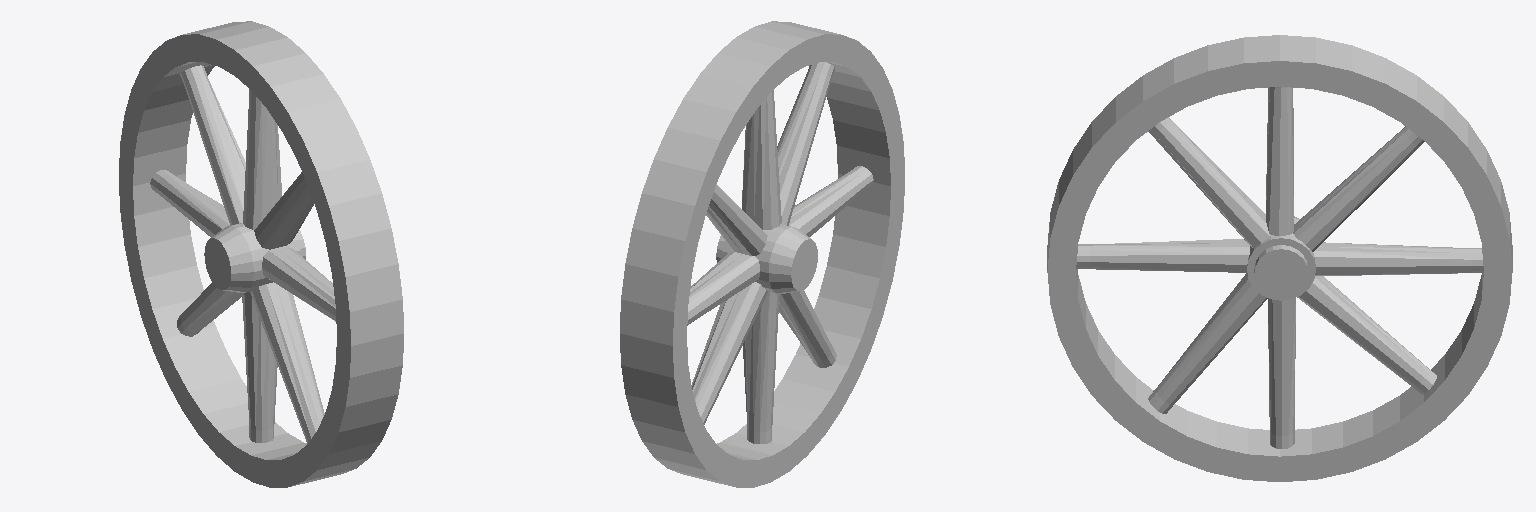
File: hpWheel.obj
3 views of the same model, side by side, from view 1: azimuth 30°, elevation 25°; view 2: azimuth 150°, elevation 25°; view 3: azimuth 270°, elevation 25° (orthographic).
Parts seen in each view (by area): view 1: default; view 2: default; view 3: default.
Boxes of the visible parts, <box> form: default: <box>119,21,403,487</box>; default: <box>620,21,904,487</box>; default: <box>1047,35,1512,481</box>.
Size of the model in its own units: 0.5863 by 3.15 by 3.15.